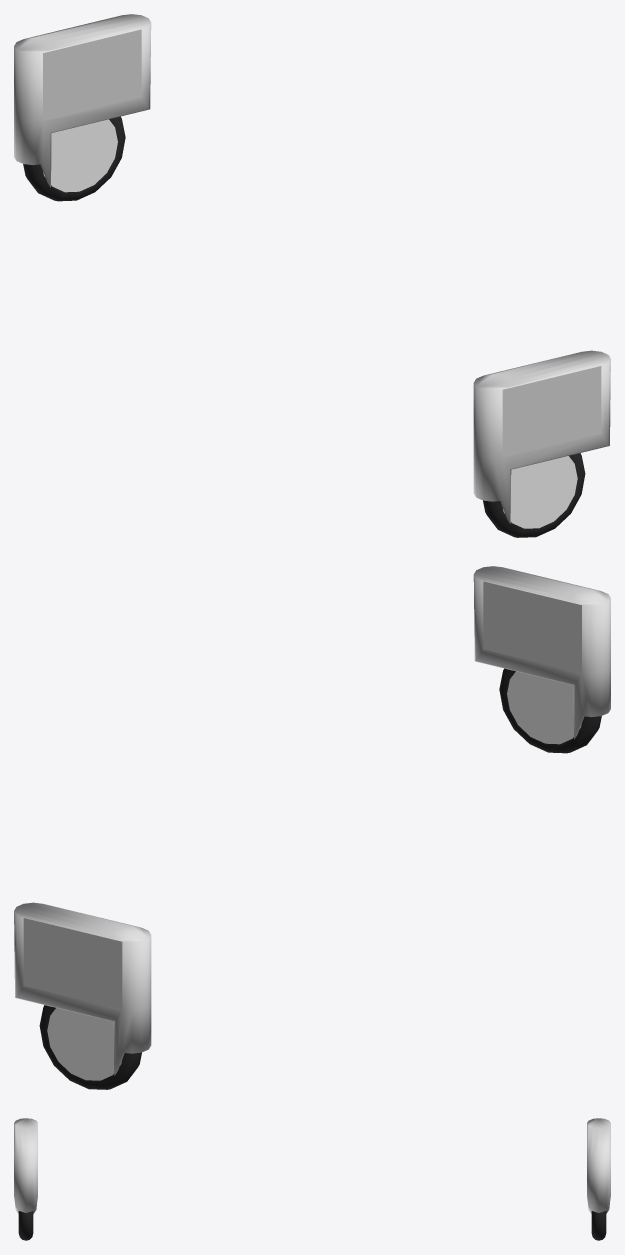
File: bedwheelfix.fbx
The picture shows the model from 3 angles, top to bottom: view 1: azimuth 30°, elevation 25°; view 2: azimuth 150°, elevation 25°; view 3: azimuth 270°, elevation 25°; orthographic projection. The views are drawn at different scales.
Parts seen in each view (by area): view 1: bed wheels.002; view 2: bed wheels.002; view 3: bed wheels.002.
Part boxes in pixels (x1=…): bed wheels.002: x1=14, y1=14, x2=610, y2=537; bed wheels.002: x1=14, y1=566, x2=610, y2=1089; bed wheels.002: x1=14, y1=1118, x2=610, y2=1240.
Bounding box in the file's own units: 12.82 × 15.18 × 80.57.
